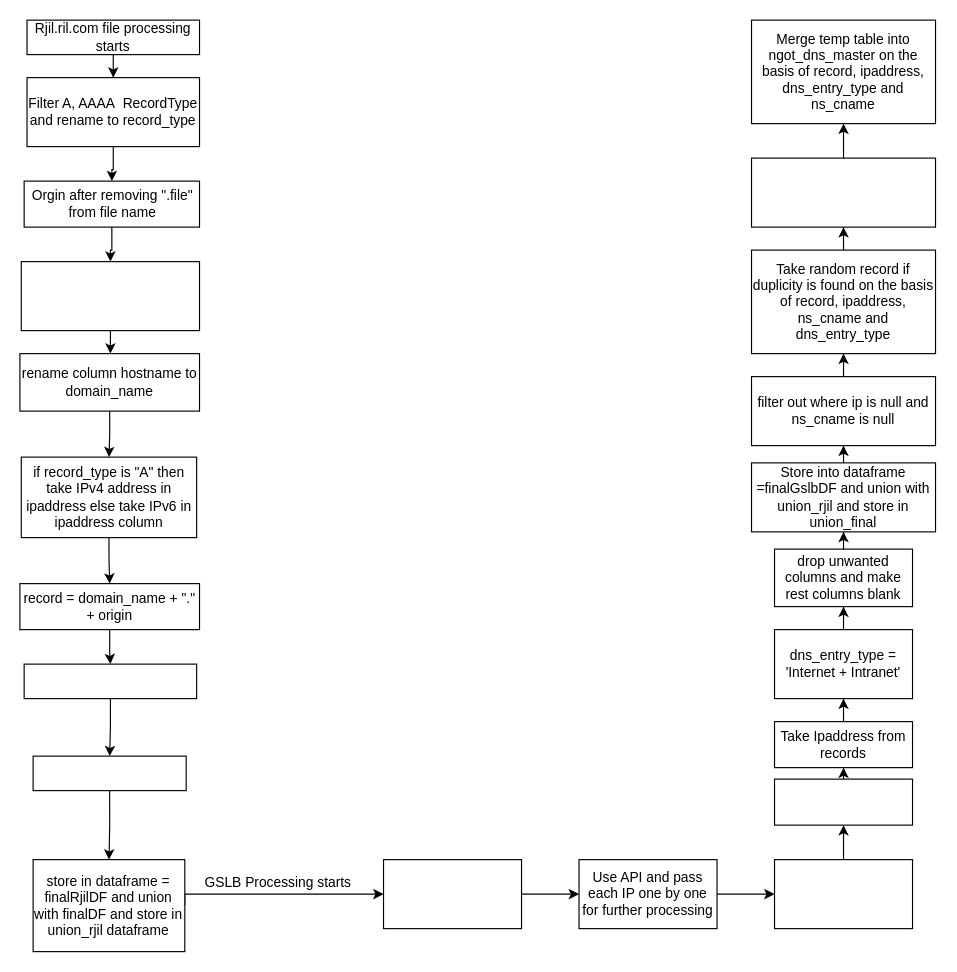
Some shapes in this 957 by 972 pixel diagram are drawn without their labels. The shapes that lost their labels are listed below. From the top down, each one's box as (x1, y1, x2, y2) in pixels, then its label:
(750, 157, 936, 227): Overwrite into temp oracle table
(20, 260, 200, 331): Take ttl from TimeToLive after conversion to minutes
(23, 663, 197, 699): dns_entry_type = "Intranet"
(32, 755, 186, 791): ns_cname = null
(773, 778, 913, 825): record = name from records
(382, 858, 522, 929): Get IP from ngot_asset_master where idc_remarks2 = 'GSLB'
(773, 858, 913, 929): Consider records where state = 'UP'
